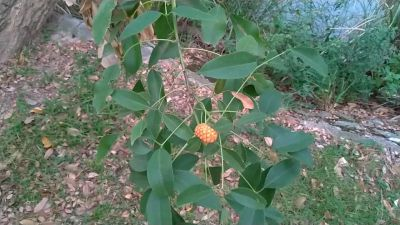eggs: (194, 122, 219, 144)
